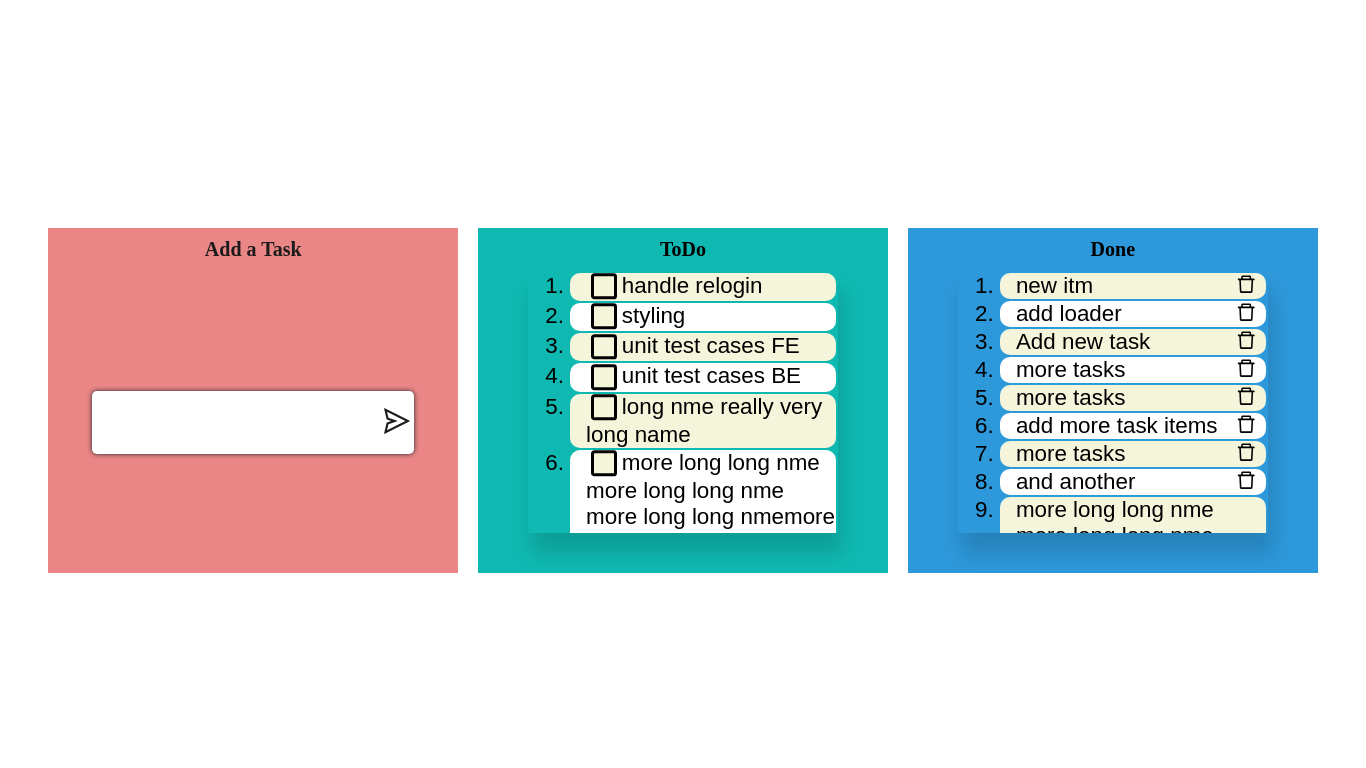
Test: Body component › Should Create new Todo Task and toast should appear
The width and height of the screenshot is (1366, 768).
Type "new value" into the field with test id "taskInputField". click: (253, 422)
box: x1=92 y1=390 x2=414 y2=454
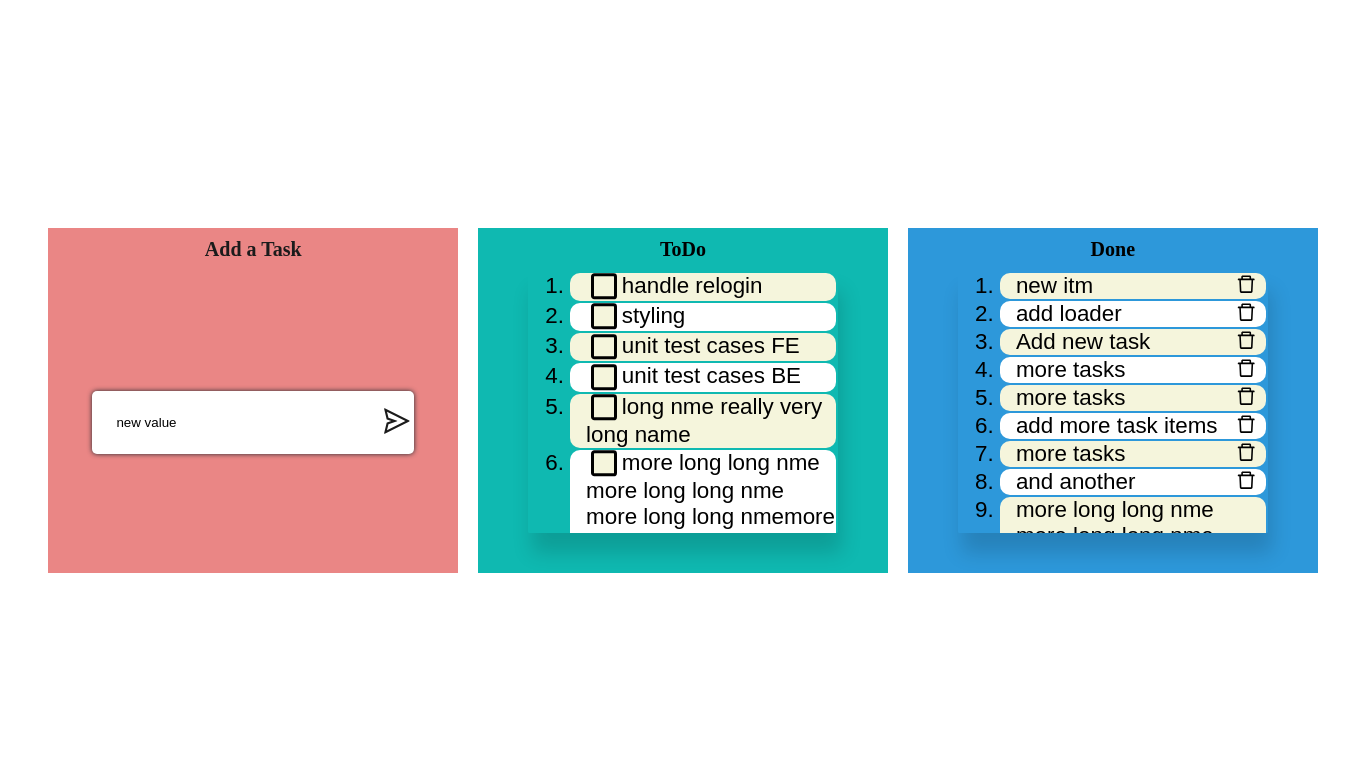
Click the icon with test id "submitTaskButton". click: (397, 421)
box: x1=382 y1=406 x2=412 y2=436
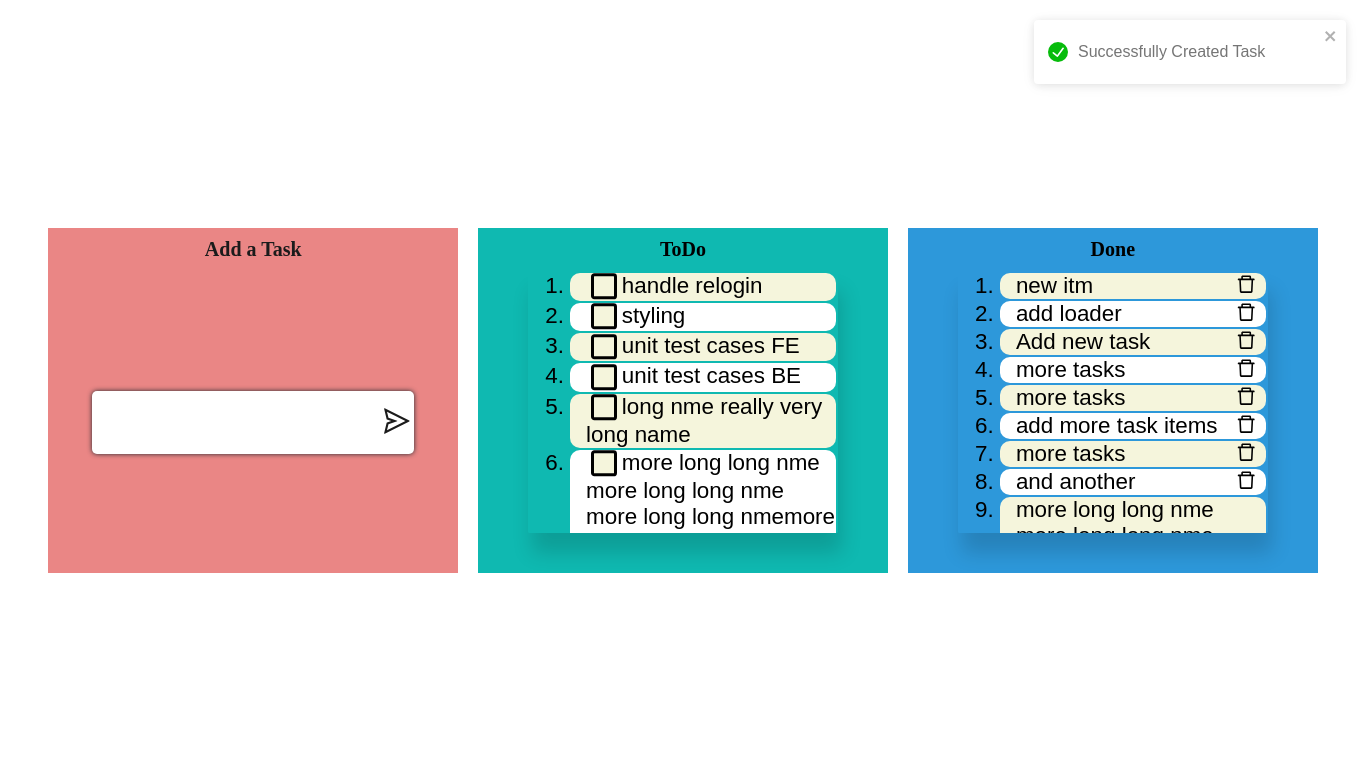
Result: the text "Successfully Created Task" is shown at x1=1078 y1=43 x2=1265 y2=60
